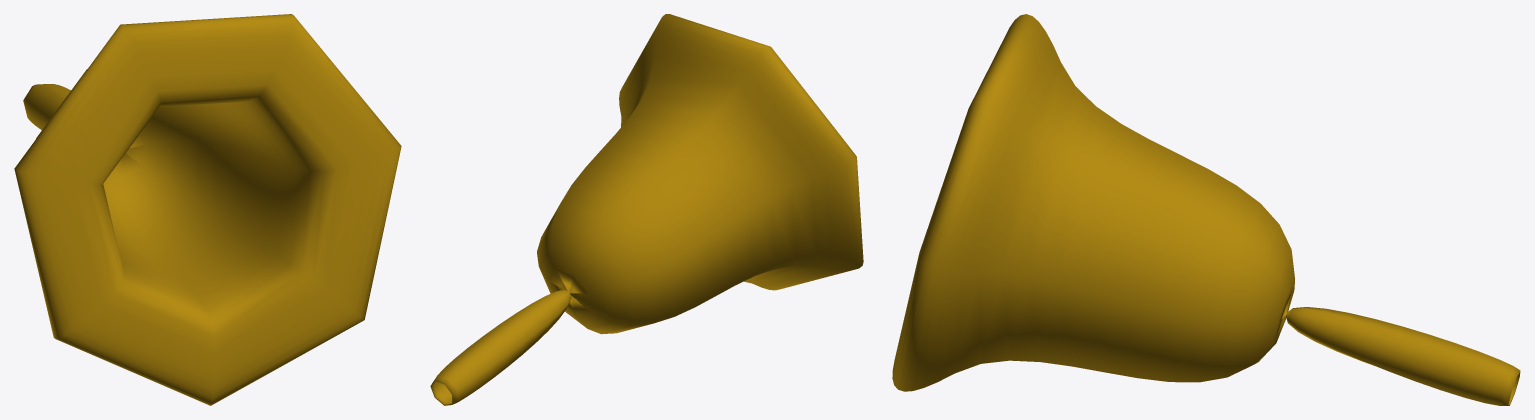
The model's file is MatachinCampana.fbx.
3 renders of one model, left to right at view 1: azimuth 30°, elevation 25°; view 2: azimuth 150°, elevation 25°; view 3: azimuth 270°, elevation 25°, orthographic. The views are drawn at different scales.
Visible parts, largest first — view 1: Campanilla; view 2: Campanilla; view 3: Campanilla.
Boxes of the visible parts, box(x1,y1,x2,y2) form: Campanilla: box(14, 14, 401, 405); Campanilla: box(430, 14, 863, 405); Campanilla: box(892, 14, 1520, 405).
Size of the model in its own units: 119 by 118 by 192.
